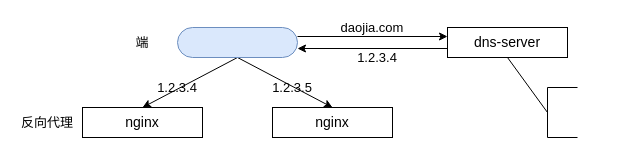
The diagram is 634 pixels wide and 155 high, and some of its shapes have lost their labels. The box of each missing label's shape, as (x1, y1, x2, y2) in pixels:
client: (176, 26, 298, 58)
daojia.com 1.2.3.4 1.2.3.5: (546, 86, 578, 138)
